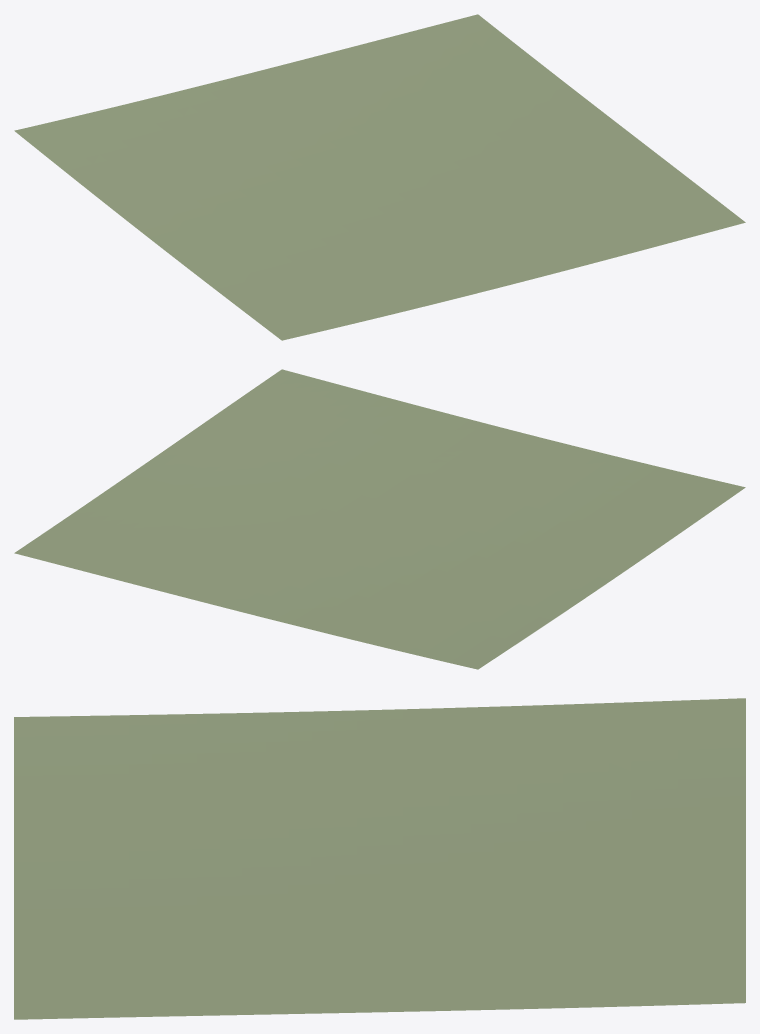
File: expanse-4-3.glb
The picture shows the model from 3 angles, top to bottom: view 1: azimuth 30°, elevation 25°; view 2: azimuth 150°, elevation 25°; view 3: azimuth 270°, elevation 25°; orthographic projection. The views are drawn at different scales.
Parts seen in each view (by area): view 1: expanse-4-3; view 2: expanse-4-3; view 3: expanse-4-3.
Boxes of the visible parts, <box> form: expanse-4-3: <box>14,14,745,340</box>; expanse-4-3: <box>14,369,745,669</box>; expanse-4-3: <box>14,698,745,1019</box>.
Size of the model in its own units: 256 by 9.37 by 256.
